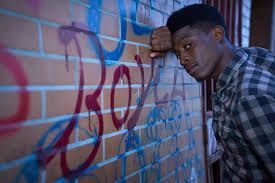no-mask: (163, 19, 227, 81)
